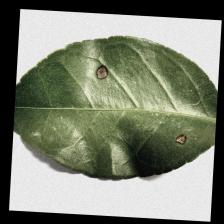canker: (90, 54, 194, 153)
